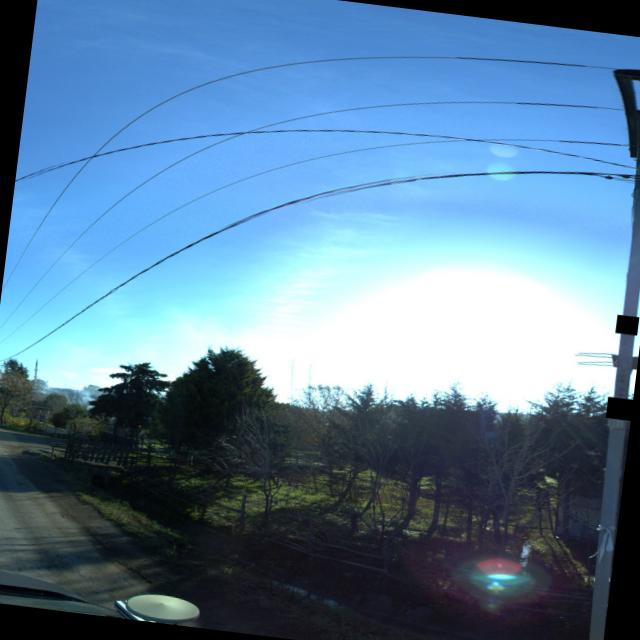Utility Pole Information Plate: (605, 397, 633, 420), (615, 315, 639, 334)
